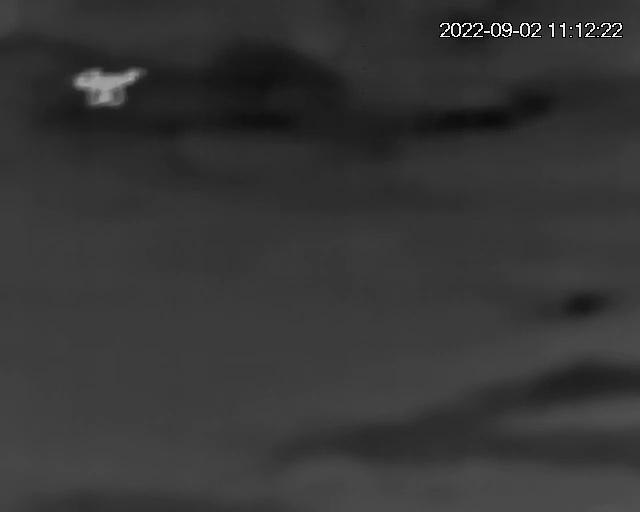DJI-Phantom: (74, 67, 145, 109)
